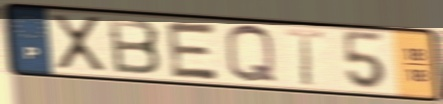5: (340, 27, 389, 94)
B: (104, 16, 165, 77)
E: (164, 20, 223, 82)
Q: (222, 22, 281, 86)
T: (283, 26, 328, 88)
X: (47, 12, 110, 73)
